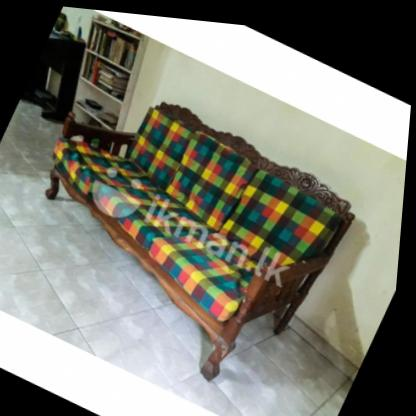Ceramic floor: (0, 99, 364, 416)
Sofa: (0, 52, 377, 409)
